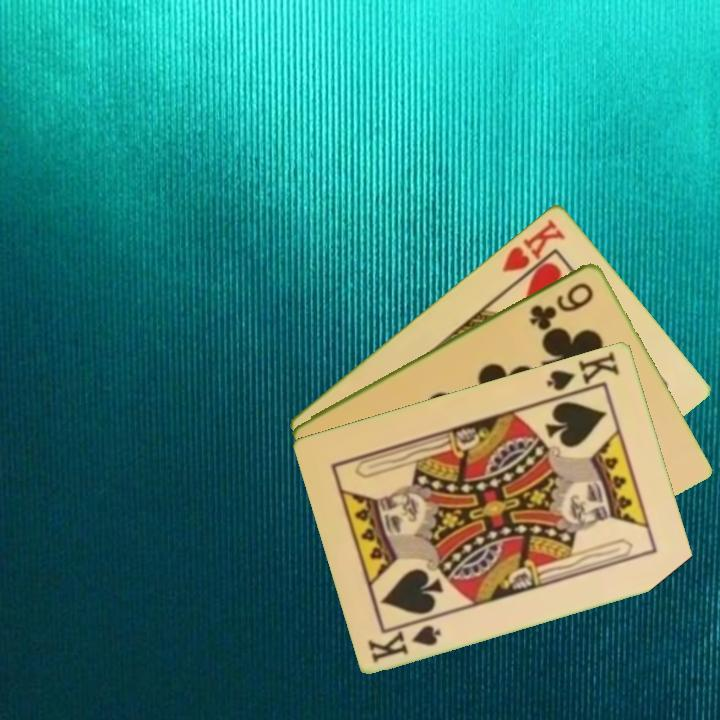9c: (526, 278, 597, 331)
Kh: (498, 215, 569, 288)
Ks: (543, 347, 623, 394), (364, 620, 445, 666)
